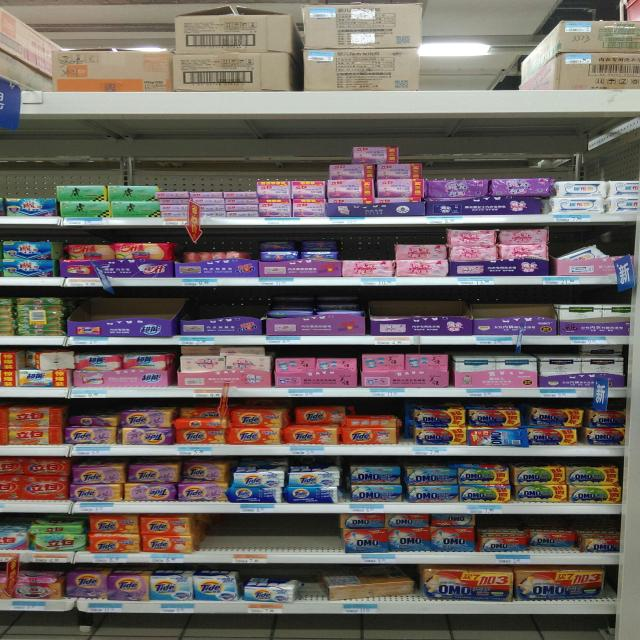void: (207, 286, 259, 346), (510, 284, 556, 344), (474, 49, 519, 103), (73, 296, 117, 348), (120, 288, 158, 348), (469, 288, 508, 344), (426, 51, 469, 101), (288, 515, 330, 565), (166, 288, 200, 345), (246, 516, 281, 564), (206, 518, 240, 567)
